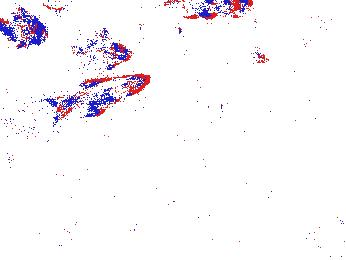X-ray fish: (73, 34, 133, 67), (1, 12, 49, 50)
red belly glassfish: (308, 15, 340, 35)
redtail glassfish: (50, 73, 152, 115), (181, 1, 255, 20)
